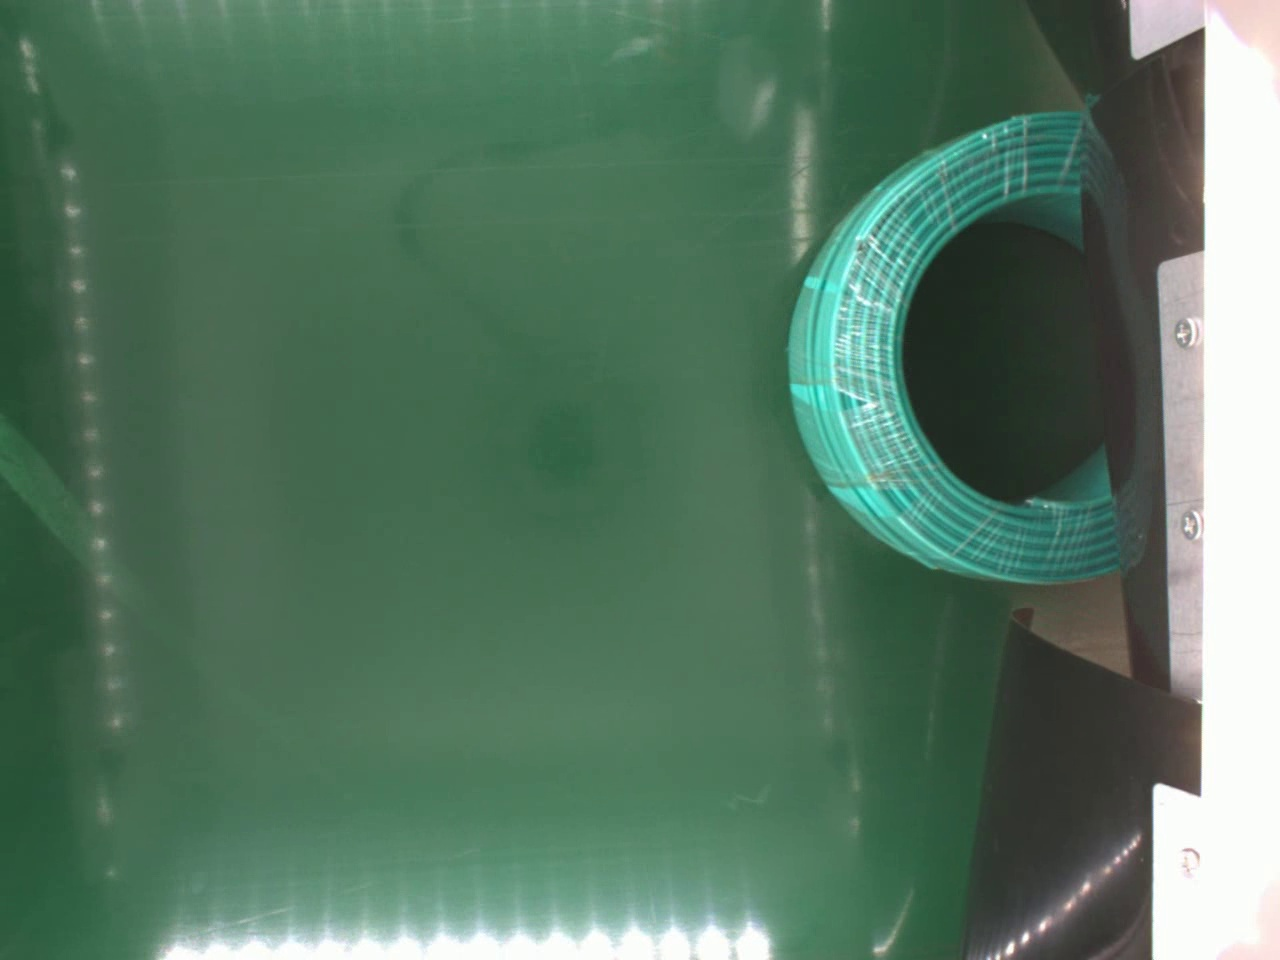green: (790, 109, 1126, 591)
